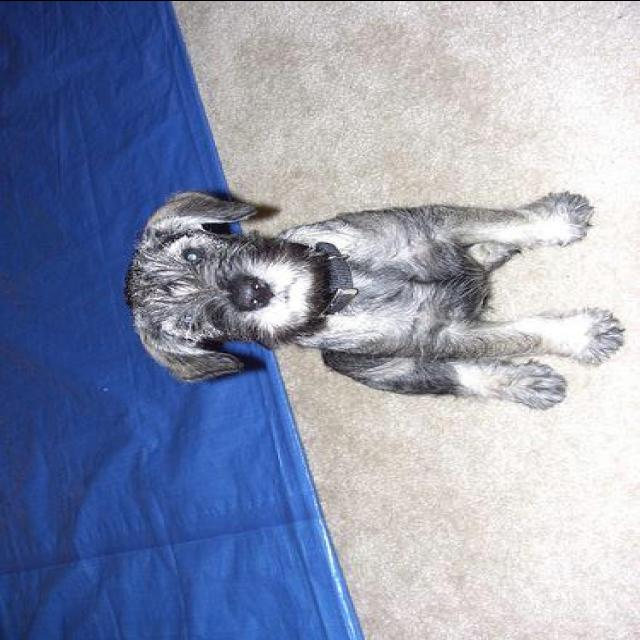standard_schnauzer: (123, 188, 626, 410)
